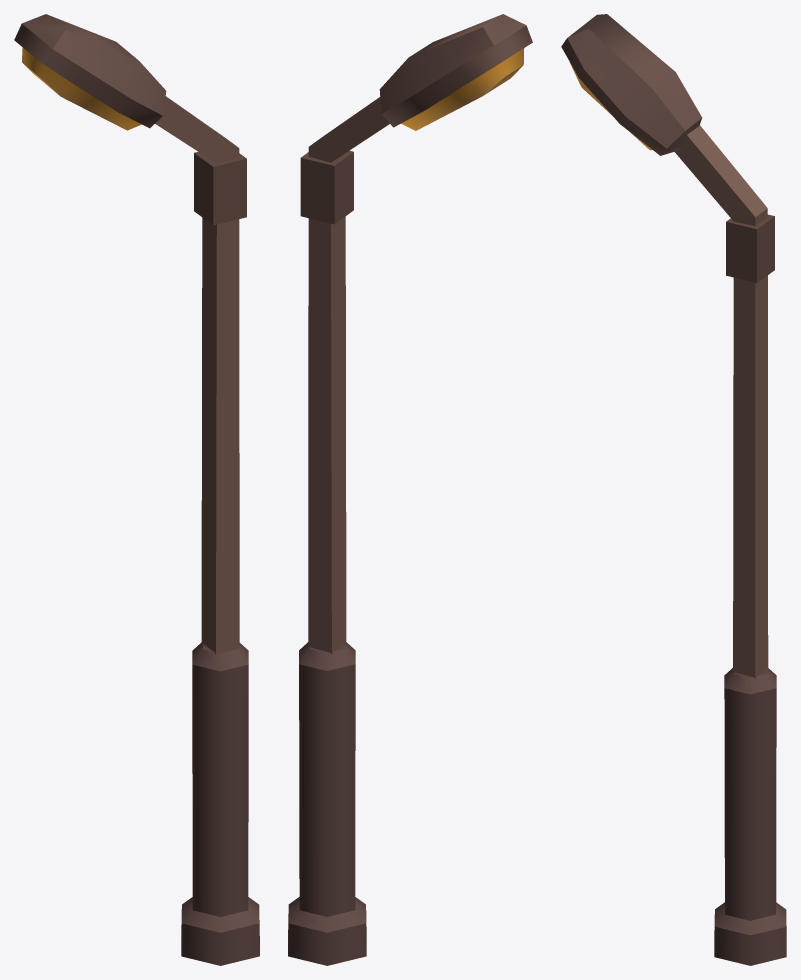
File: Lamp_Court_1_D.fbx
The picture shows the model from 3 angles, left to right: view 1: azimuth 30°, elevation 25°; view 2: azimuth 150°, elevation 25°; view 3: azimuth 330°, elevation 25°; orthographic projection. The views are drawn at different scales.
Parts seen in each view (by area): view 1: Lamp_Court_1_D; view 2: Lamp_Court_1_D; view 3: Lamp_Court_1_D.
Part boxes in pixels (x1=…): Lamp_Court_1_D: x1=14, y1=14, x2=259, y2=965; Lamp_Court_1_D: x1=288, y1=14, x2=532, y2=965; Lamp_Court_1_D: x1=561, y1=14, x2=786, y2=965.
Bounding box in the file's own units: 163 × 648 × 58.67.
